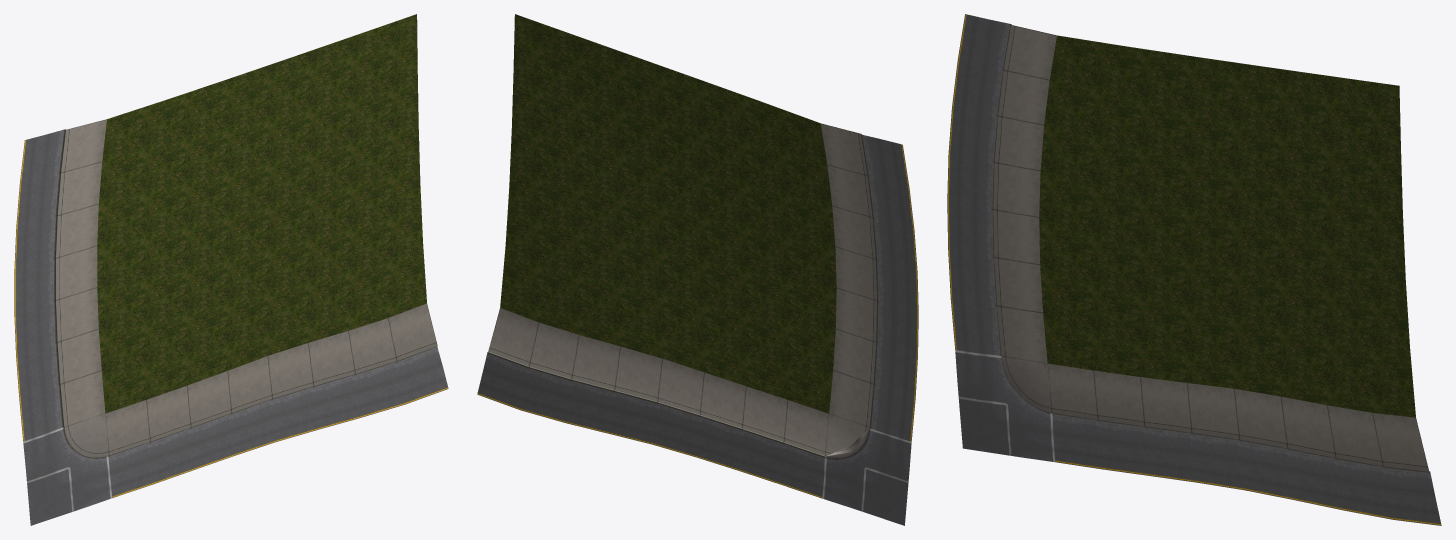
Rendered from lot20.obj.
3 views of the same model, side by side, from view 1: azimuth 30°, elevation 25°; view 2: azimuth 150°, elevation 25°; view 3: azimuth 330°, elevation 25° (orthographic). The views are drawn at different scales.
Visible parts, largest first — view 1: lot20; view 2: lot20; view 3: lot20.
Boxes of the visible parts, bbox=[...] form: lot20: bbox=[14, 14, 448, 525]; lot20: bbox=[477, 14, 918, 525]; lot20: bbox=[947, 14, 1441, 525].
Size of the model in its own units: 52.88 by 48.15 by 0.999.
